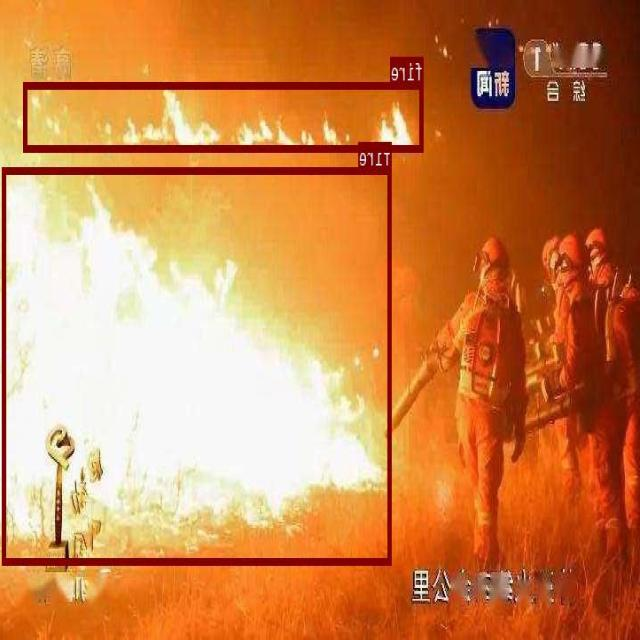fire: (3, 166, 392, 563), (25, 81, 424, 151)
